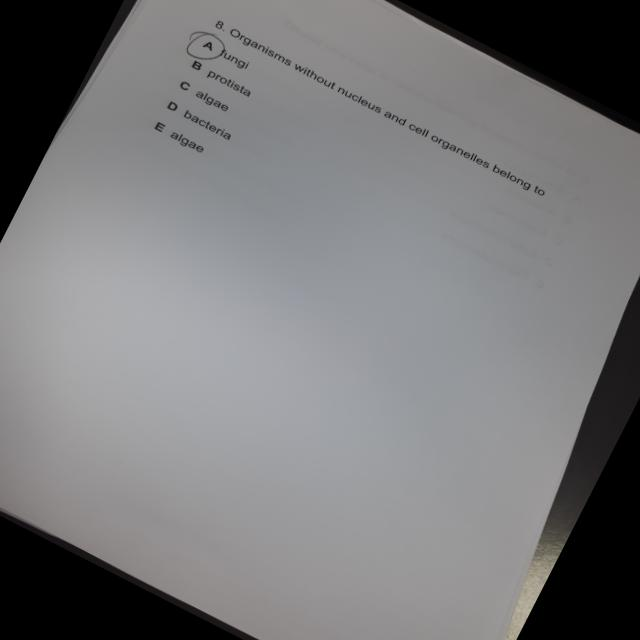A: (183, 24, 232, 70)
